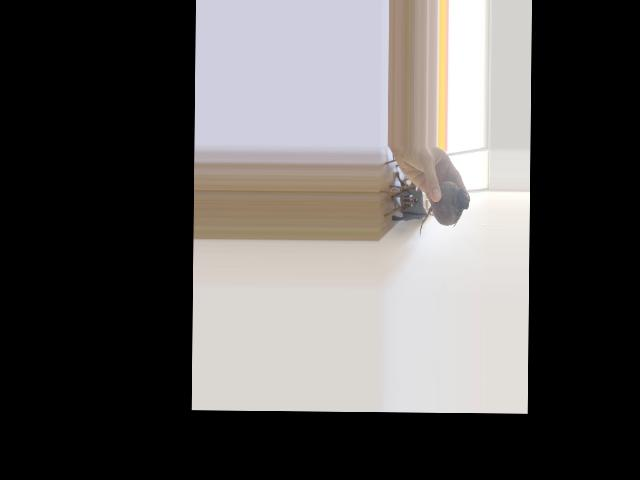beet: (419, 181, 469, 238)
